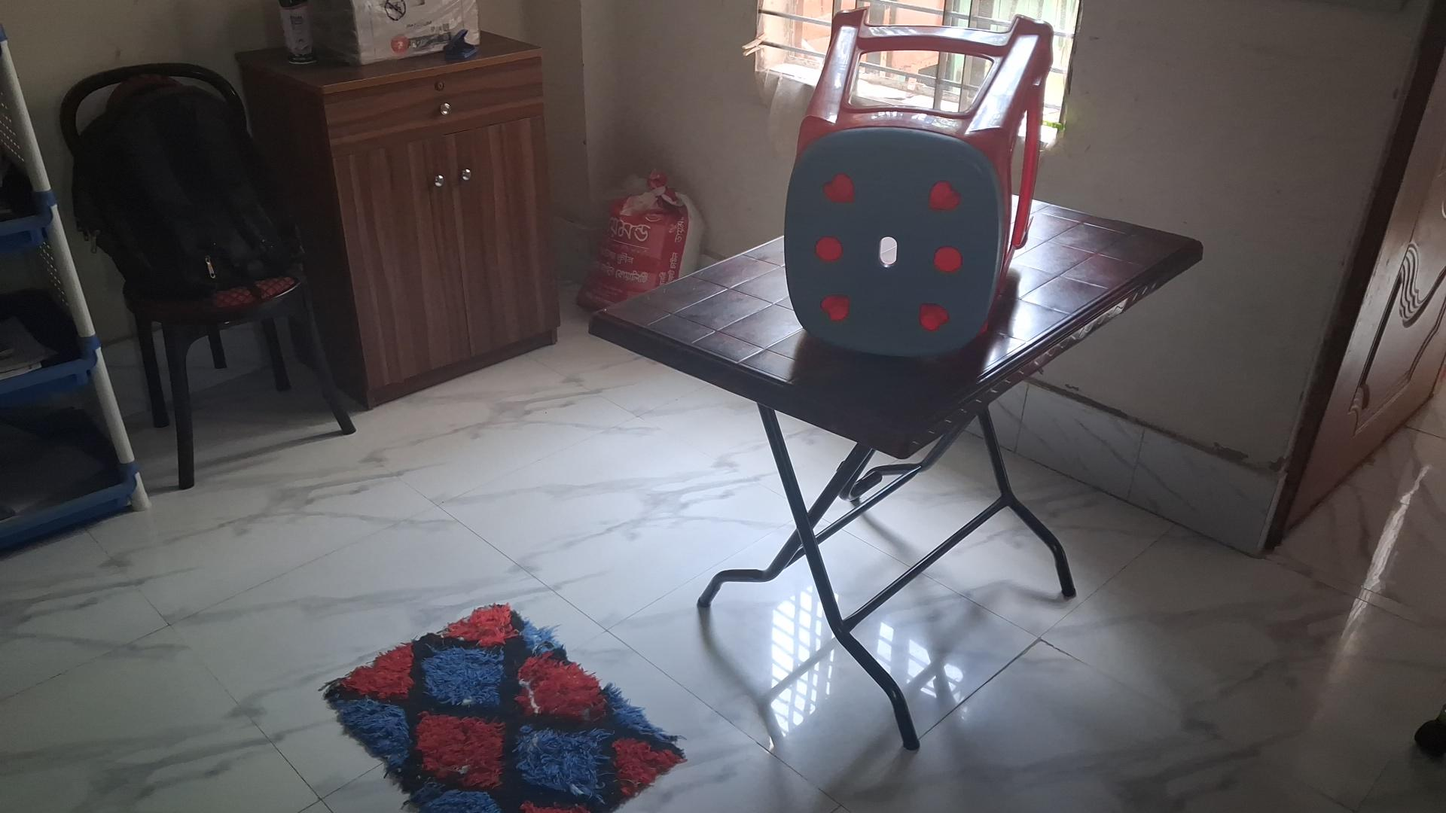Bag: (78, 86, 293, 298), (580, 175, 703, 317)
Chair: (59, 62, 359, 490)
Floor Mat: (325, 605, 683, 813)
Stool: (787, 2, 1050, 355)
Table: (585, 206, 1203, 751)
